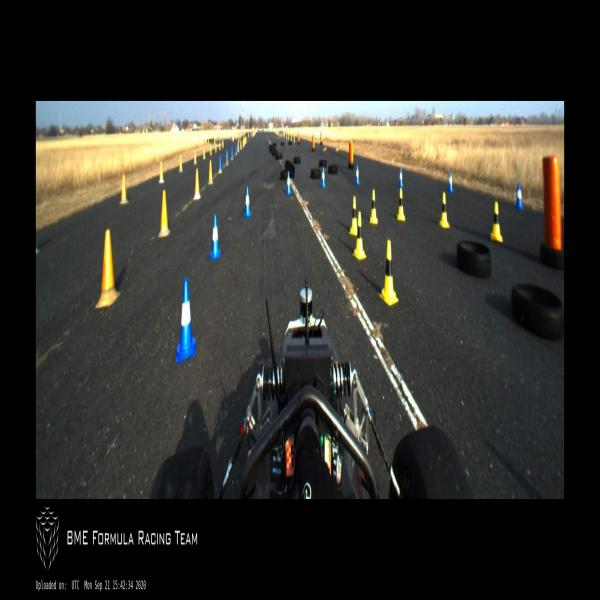blue_cone: (176, 278, 196, 362), (210, 214, 221, 260), (244, 187, 251, 217), (515, 183, 523, 209), (286, 171, 292, 195), (448, 170, 454, 193), (398, 167, 404, 188), (355, 164, 360, 184), (321, 168, 326, 188)
yellow_cone: (379, 239, 398, 305), (353, 210, 366, 260), (490, 202, 503, 242), (439, 192, 450, 228), (350, 196, 357, 236), (370, 189, 378, 223), (397, 190, 405, 220)
